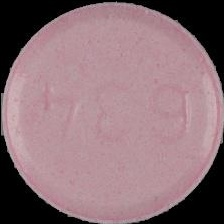0615-5589: (0, 0, 224, 224)
